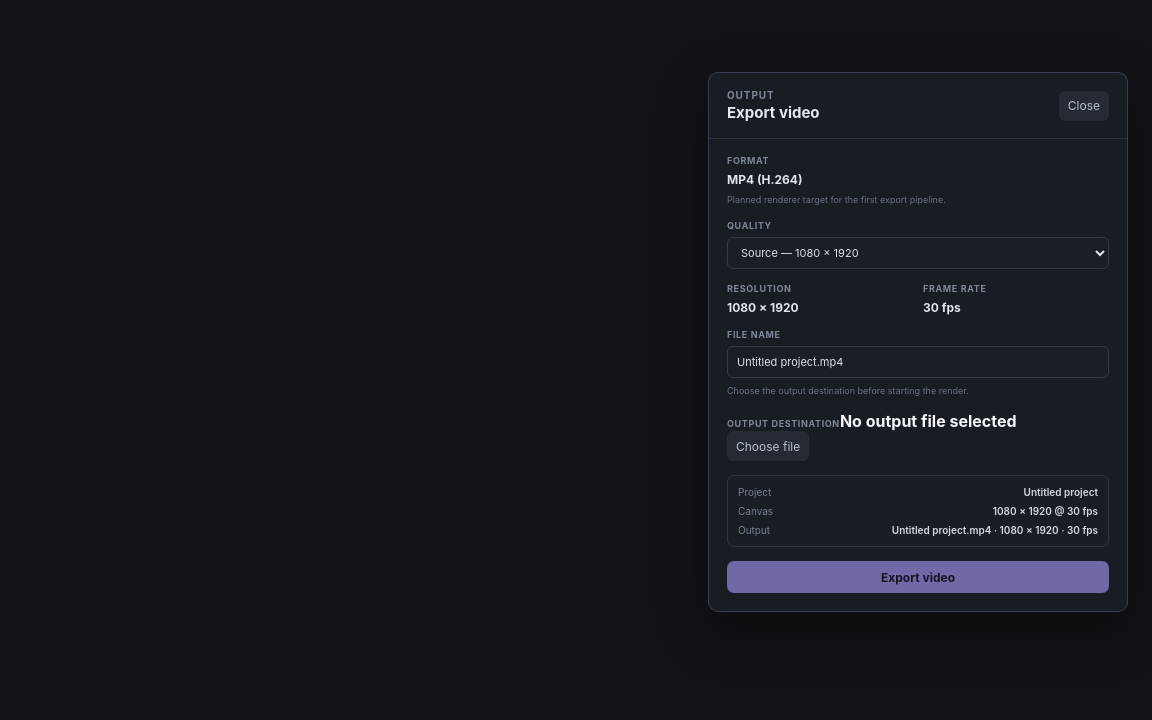
it: ExportPanel › exports to the selected destination and shows completion
The width and height of the screenshot is (1152, 720).
Click the button named "Choose export destination": [768, 446] box left=727, top=431, right=809, bottom=461
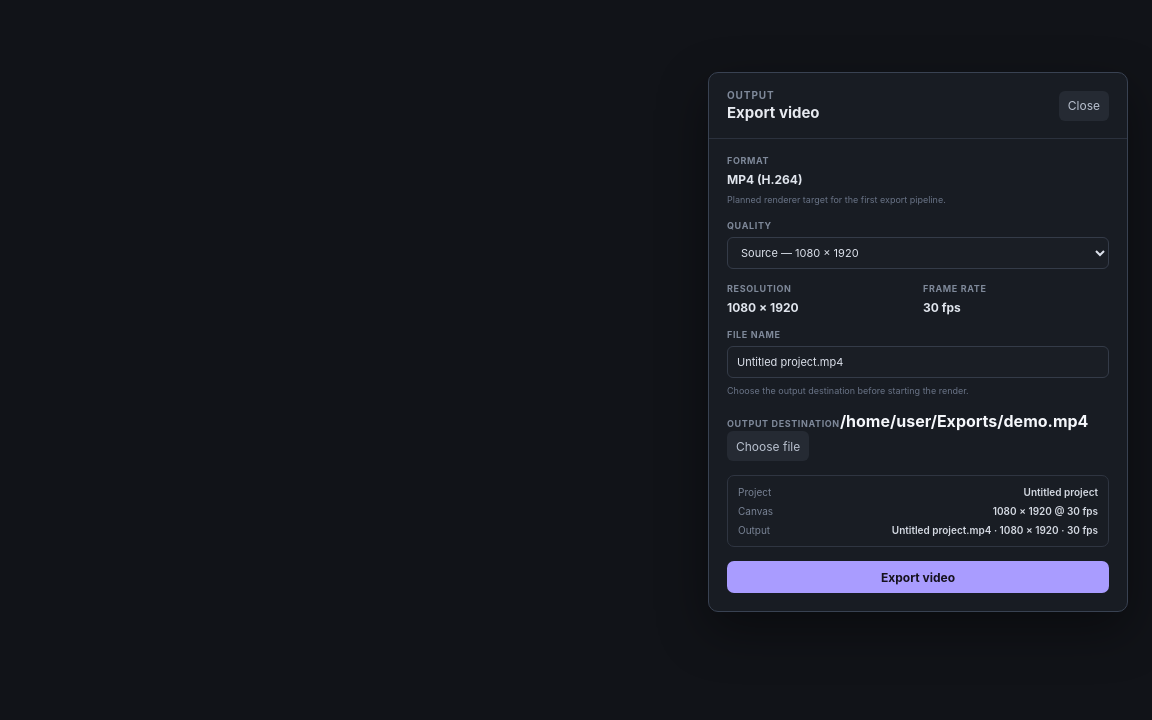
Check: the text "/home/user/Exports/demo.mp4" is shown, box left=840, top=411, right=1088, bottom=431
Click the button "Export video": [918, 577] box left=727, top=561, right=1109, bottom=593
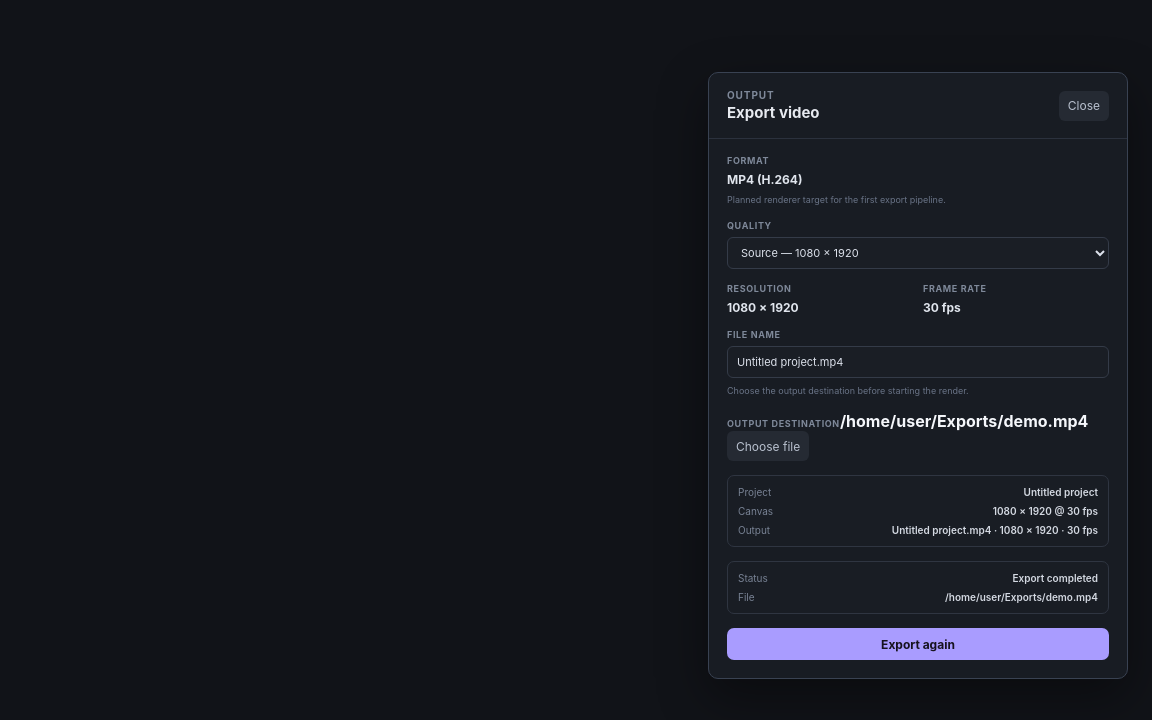
Check: the text "Export completed" is shown, box left=1012, top=572, right=1098, bottom=584
